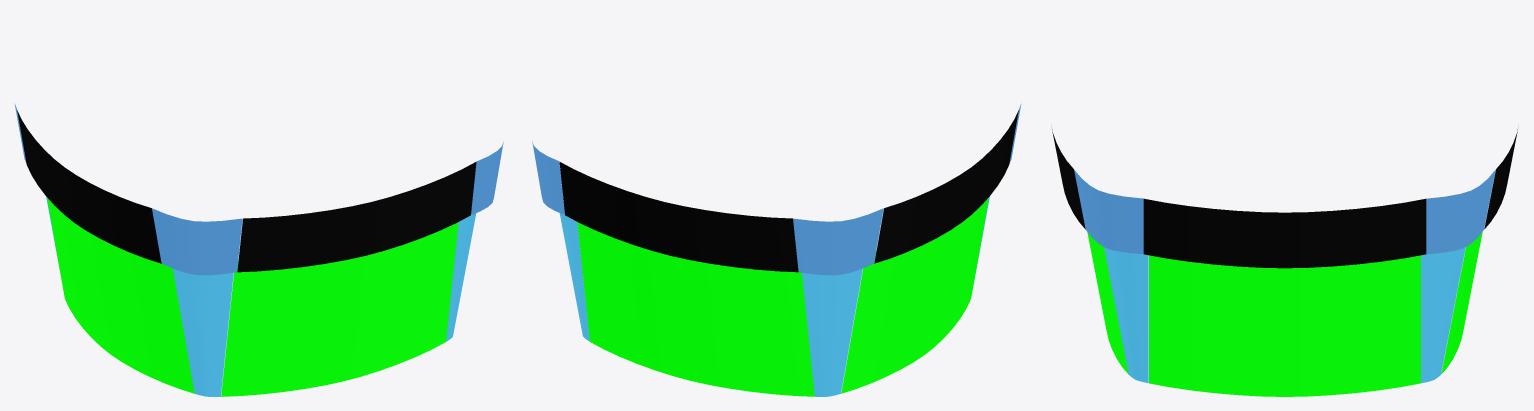
Rendered from screens.glb.
3 renders of one model, left to right at view 1: azimuth 30°, elevation 25°; view 2: azimuth 150°, elevation 25°; view 3: azimuth 270°, elevation 25°, orthographic. The views are drawn at different scales.
Visible parts, largest first — view 1: Center Screens (×2); view 2: Center Screens (×3); view 3: Center Screens (×3).
Part boxes in pixels (x1,y1,x2,y2): Center Screens (×2): (17,110,503,396); Center Screens (×3): (532,104,1021,396); Center Screens (×3): (1052,129,1517,396).
Size of the model in its own units: 13.48 by 6.7 by 13.48.
